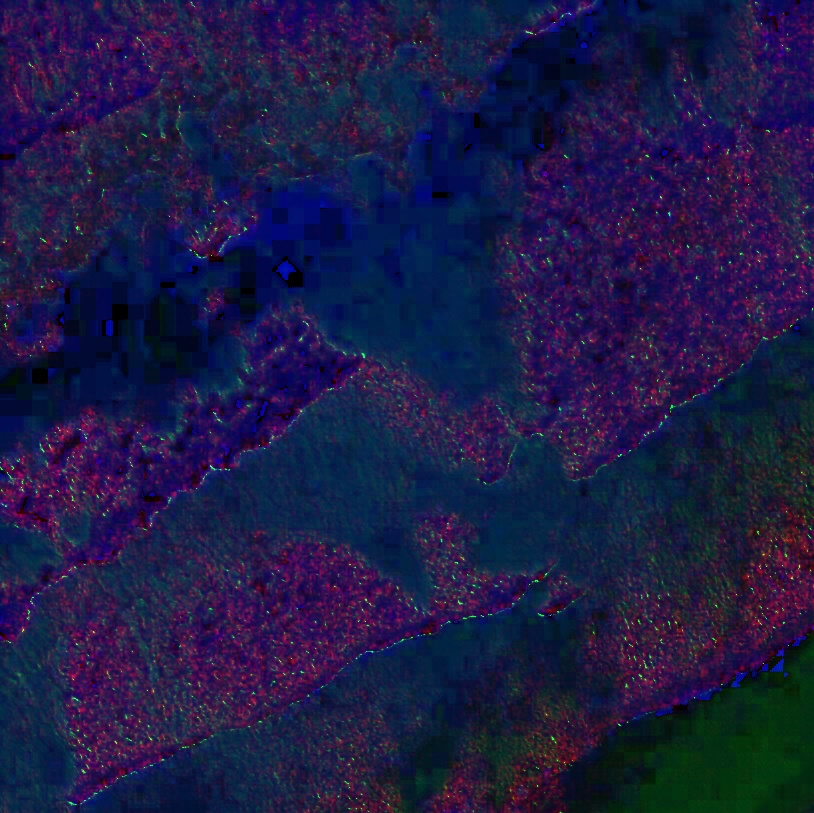rip_current: (224, 204, 615, 680)
